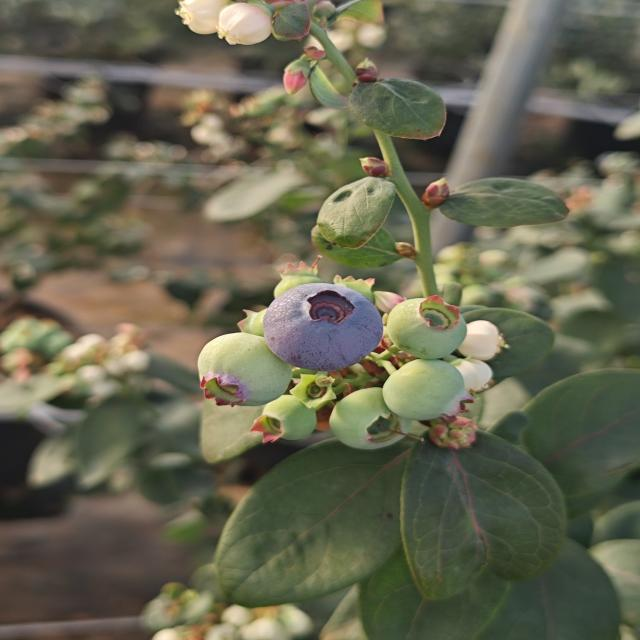ripe: (258, 282, 389, 373)
